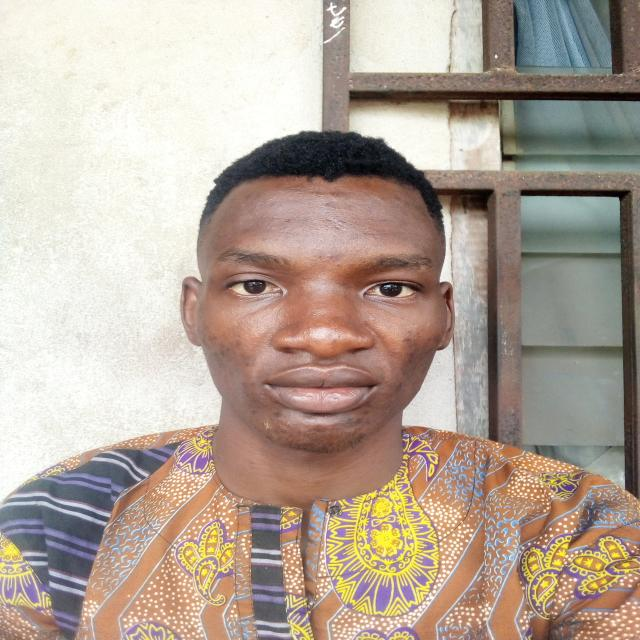Acne: (323, 215, 354, 232), (198, 320, 219, 345), (402, 328, 422, 349), (339, 414, 374, 426), (211, 343, 232, 362), (327, 247, 350, 263), (420, 338, 440, 356), (404, 347, 420, 368), (231, 328, 244, 349), (258, 420, 277, 433), (236, 226, 257, 237), (280, 185, 310, 192), (391, 380, 406, 393), (309, 253, 321, 268), (240, 353, 252, 367), (271, 412, 286, 422), (241, 192, 259, 200), (320, 200, 338, 208), (311, 426, 329, 434), (255, 237, 274, 244), (217, 356, 227, 368), (332, 333, 345, 342), (280, 218, 297, 224), (392, 194, 405, 201), (249, 408, 262, 415), (240, 379, 248, 389), (326, 192, 344, 196), (425, 322, 434, 329)
Englarged-Pores: (235, 307, 275, 335), (292, 230, 358, 245), (302, 313, 336, 340), (370, 308, 397, 338)
